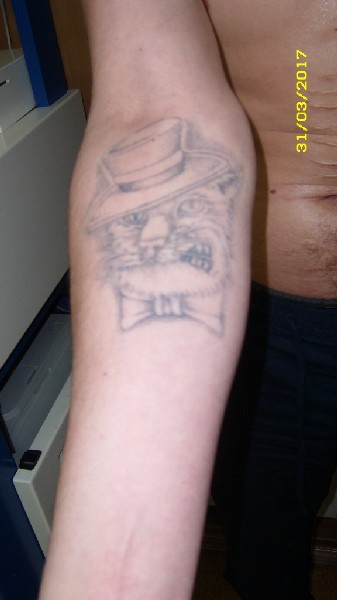tatu8_kot: (79, 95, 249, 348)
